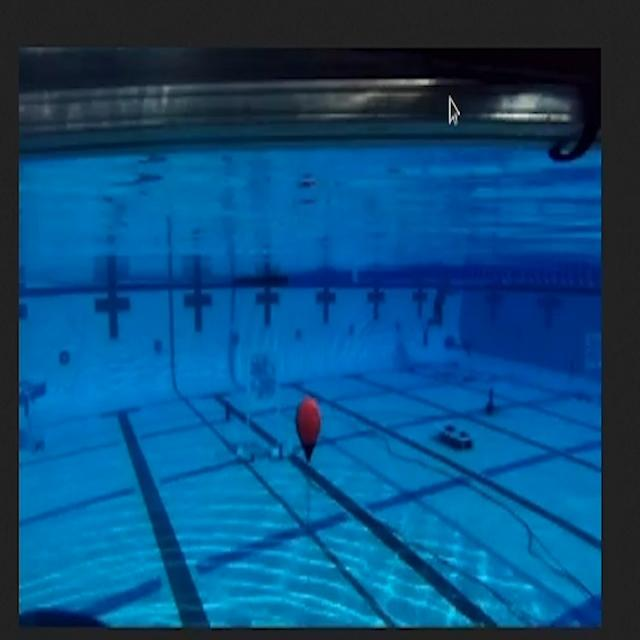Buoy: (293, 388, 322, 477)
